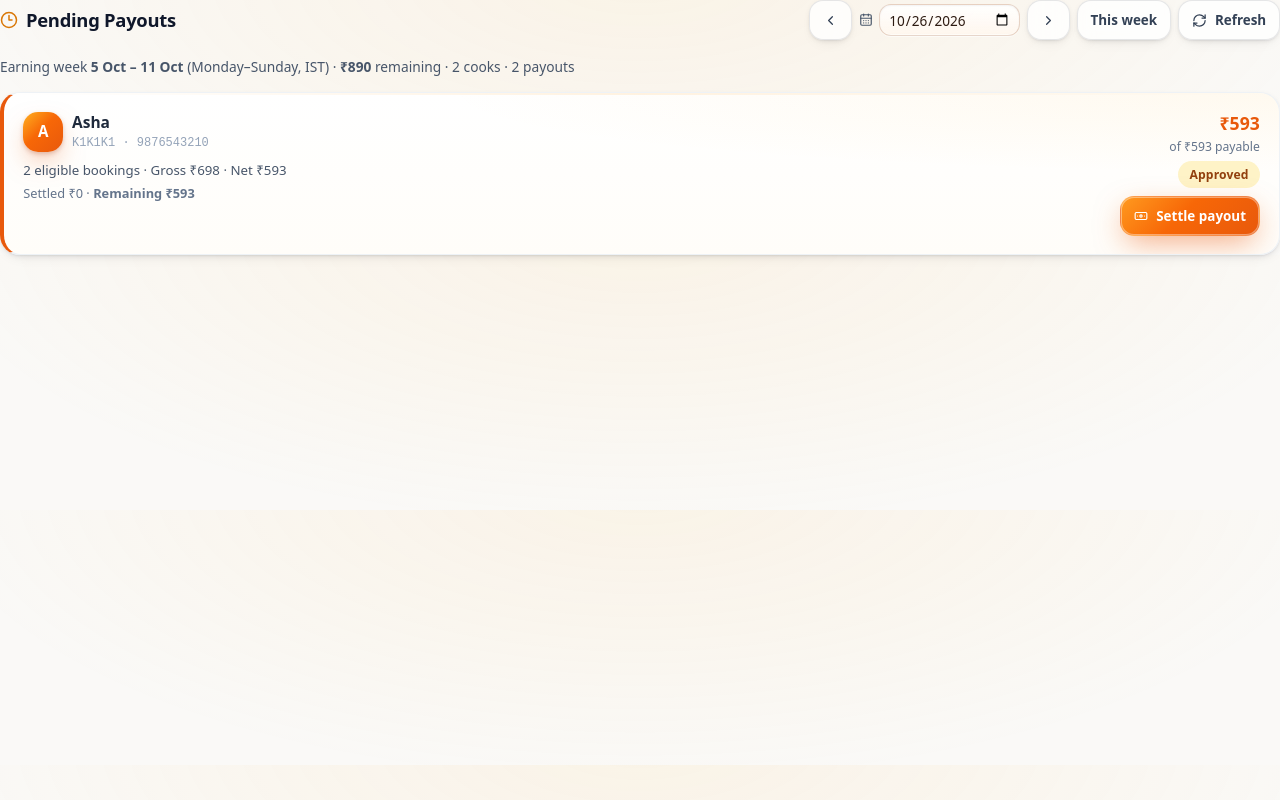
Test: AdminWeeklyPayouts tabs › pending tab opens the settlement dialog
Click the button "Settle payout": x=1190, y=216 [1120, 196, 1260, 236]
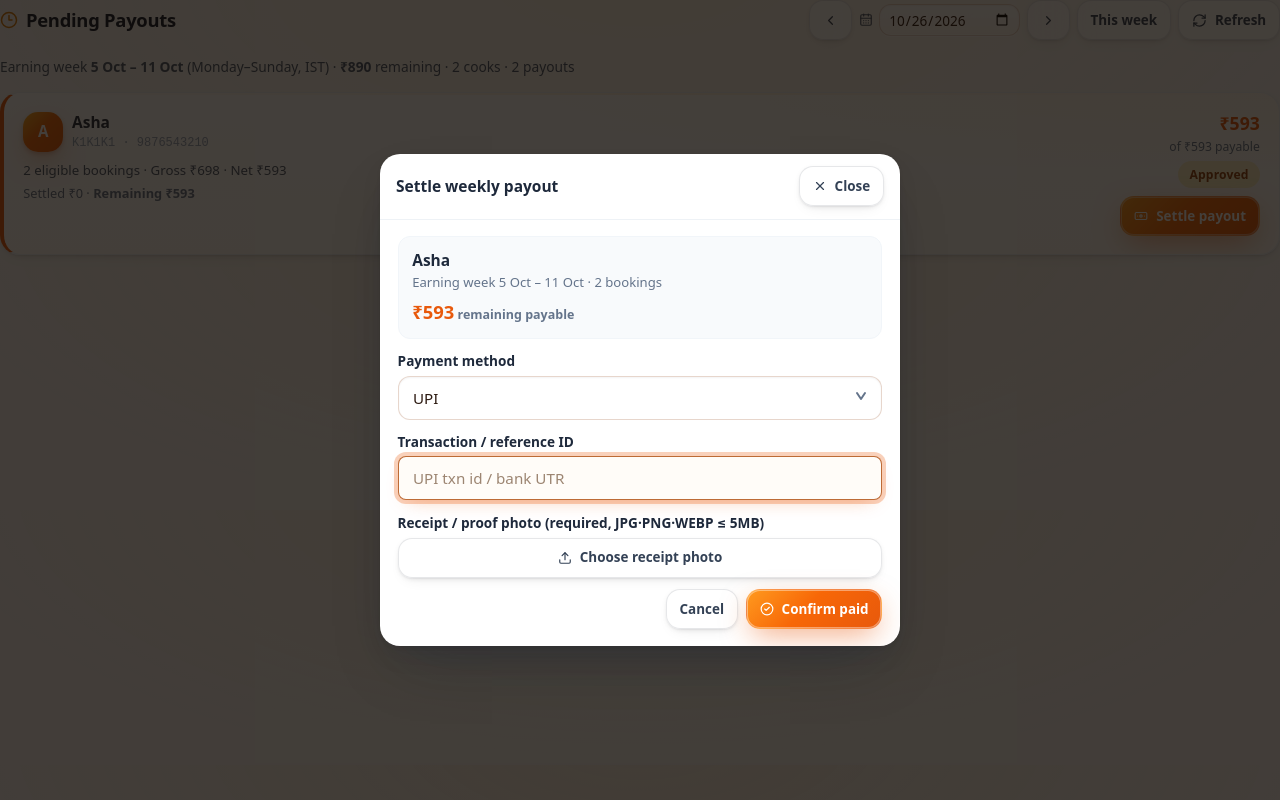
Check: the text "Settle weekly payout" is shown, box [396, 174, 558, 198]
Check: the text "Transaction / reference ID" is shown, box [398, 431, 882, 501]
Check: the text "Receipt / proof photo" is shown, box [398, 513, 764, 532]
